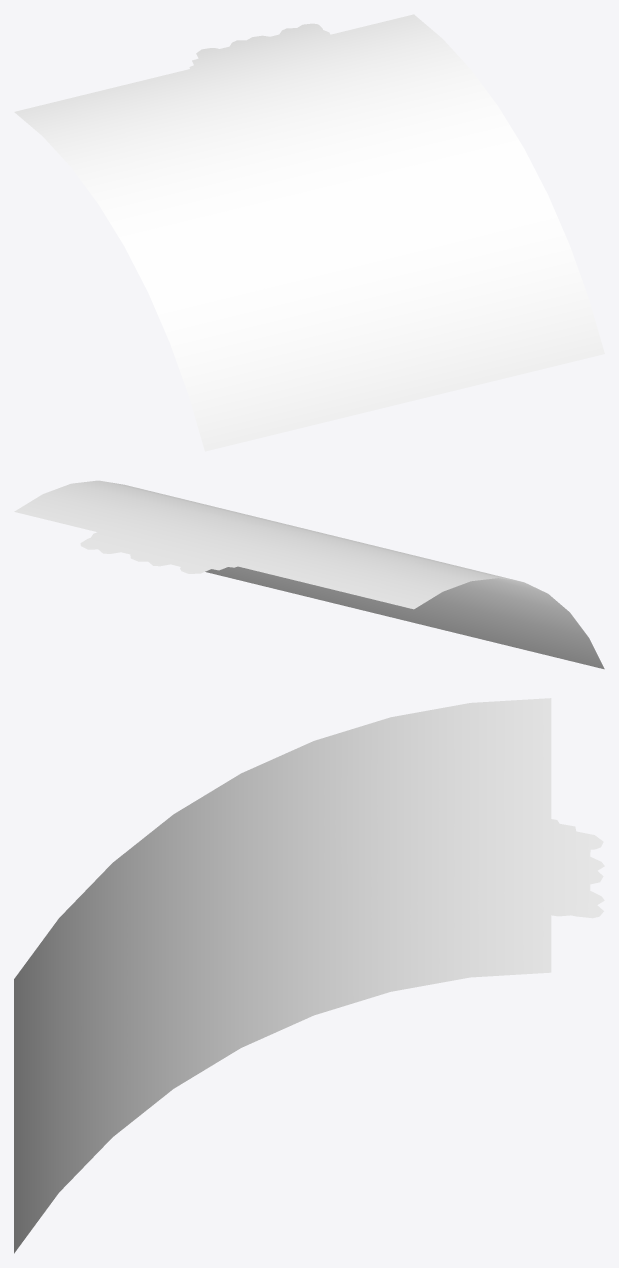
Rendered from grd_F_S_0.dae.
3 renders of one model, top to bottom at view 1: azimuth 30°, elevation 25°; view 2: azimuth 150°, elevation 25°; view 3: azimuth 270°, elevation 25°, orthographic. The views are drawn at different scales.
Visible parts, largest first — view 1: grd_F_S_0; view 2: grd_F_S_0; view 3: grd_F_S_0.
Boxes of the visible parts, x1=… form: grd_F_S_0: x1=14, y1=14, x2=604, y2=451; grd_F_S_0: x1=14, y1=480, x2=604, y2=669; grd_F_S_0: x1=14, y1=698, x2=604, y2=1253.
Bounding box in the file's own units: 512 × 244 × 466.
Materials: 2 (1 with a texture image).
